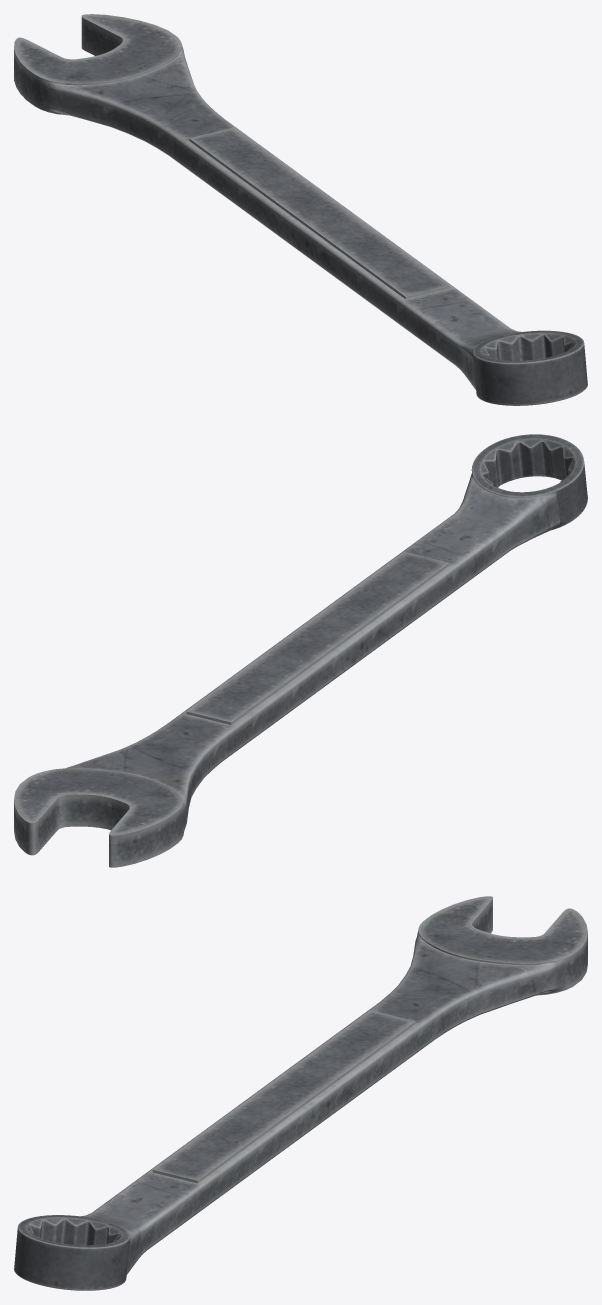
Rendered from combination_wrench.glb.
3 renders of one model, top to bottom at view 1: azimuth 30°, elevation 25°; view 2: azimuth 150°, elevation 25°; view 3: azimuth 330°, elevation 25°, orthographic.
Visible parts, largest first — view 1: combination_wrench; view 2: combination_wrench; view 3: combination_wrench.
Part boxes in pixels (<box>): combination_wrench: <box>14,14,587,405</box>; combination_wrench: <box>14,434,587,867</box>; combination_wrench: <box>14,896,587,1290</box>.
Size of the model in its own units: 0.0566 by 0.0215 by 0.337.
Materials: 1 (1 with a texture image).
